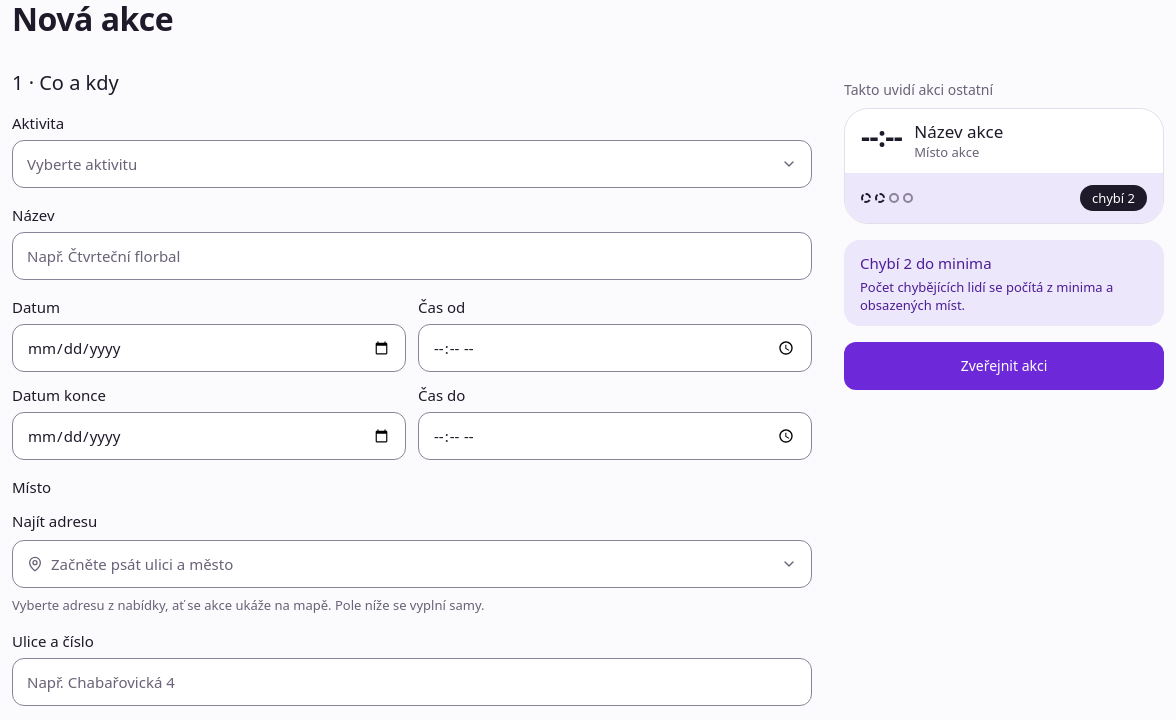
Test case: EventForm on a desktop › shows every section at once with the preview beside them
Check: the heading "1 · Co a kdy" is shown, box [12,69,119,96]
Check: the element "Takto uvidí akci ostatní" is shown, box [844,80,1164,224]
Click the button "Zveřejnit akci": coordinates (1004, 366) [844,342,1164,390]
(page scrolled)
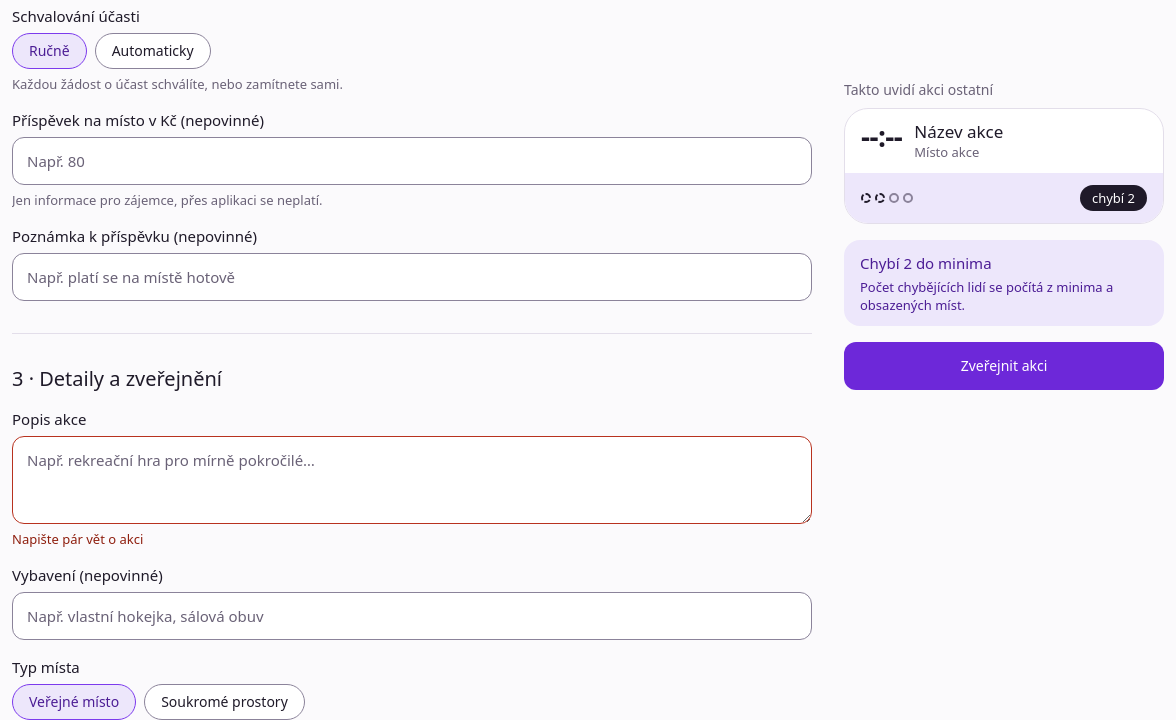
Check: the text "Napište pár vět o akci" is shown, box [12,530,143,548]
